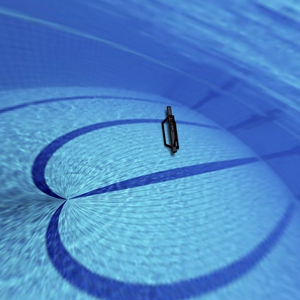submarine: (151, 93, 189, 159)
